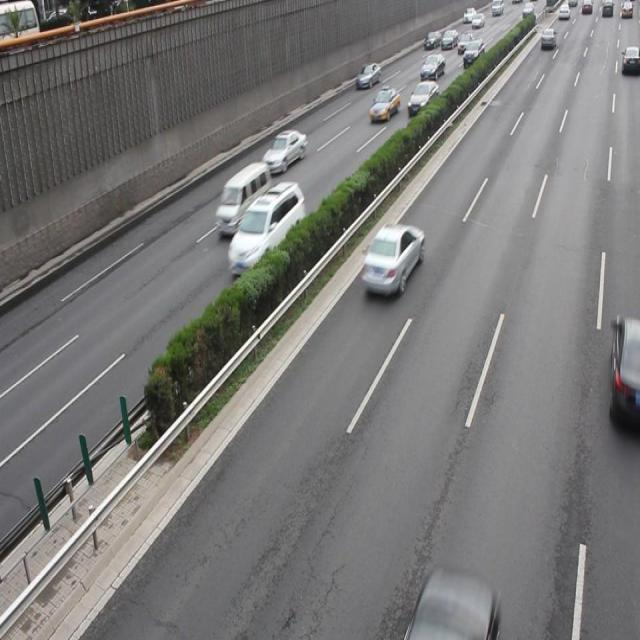car: (406, 572, 494, 640), (358, 220, 422, 296), (607, 312, 640, 426), (261, 128, 306, 174), (406, 80, 438, 118), (369, 85, 399, 121)
truck: (227, 180, 305, 276), (215, 160, 272, 238)
